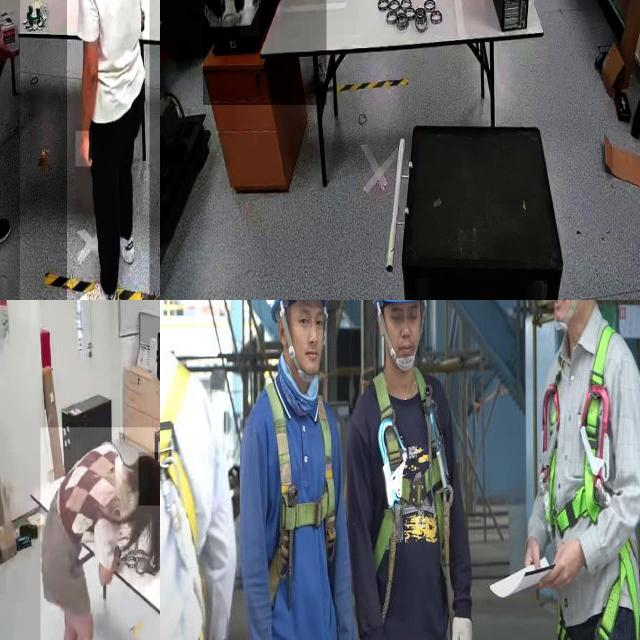Harness: (538, 323, 640, 640), (242, 378, 346, 640), (365, 369, 459, 640), (160, 340, 210, 640)
No_Glasses: (294, 307, 332, 332), (388, 307, 423, 329)
hand_glove: (240, 0, 259, 36), (220, 0, 239, 32)
hand_noglove: (76, 131, 92, 167), (0, 22, 10, 66)
head_nohelmet: (138, 452, 160, 506)
person: (40, 427, 160, 640), (67, 0, 150, 300), (203, 0, 327, 106)
shoes: (76, 282, 125, 300), (0, 213, 13, 263)
